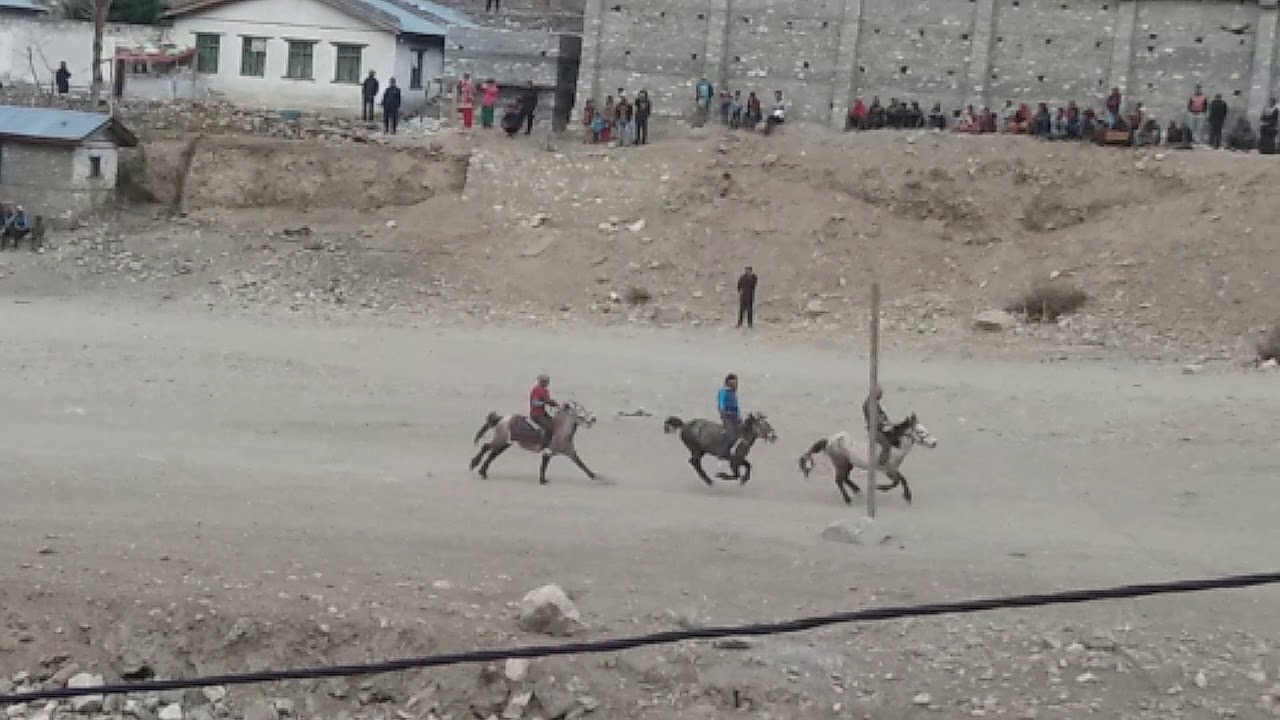human: (510, 366, 560, 454), (842, 380, 901, 450), (732, 261, 779, 336), (711, 369, 750, 441), (620, 79, 659, 150), (376, 69, 409, 136), (48, 54, 79, 115), (451, 68, 476, 131), (356, 66, 382, 125), (513, 80, 540, 134), (1181, 83, 1208, 132), (479, 77, 499, 130), (576, 97, 601, 137), (690, 70, 711, 117), (766, 86, 789, 125), (743, 90, 760, 131)
